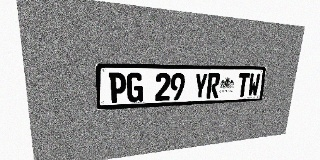2: (155, 73, 171, 101)
9: (170, 73, 185, 100)
G: (127, 73, 143, 102)
P: (109, 73, 126, 103)
R: (206, 73, 220, 99)
T: (236, 73, 250, 97)
W: (247, 73, 260, 97)
Y: (193, 73, 208, 99)
